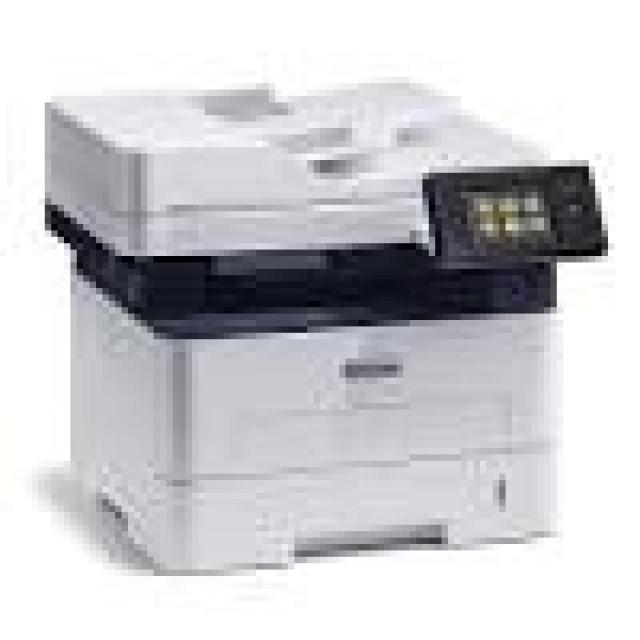printer: (22, 26, 619, 603)
